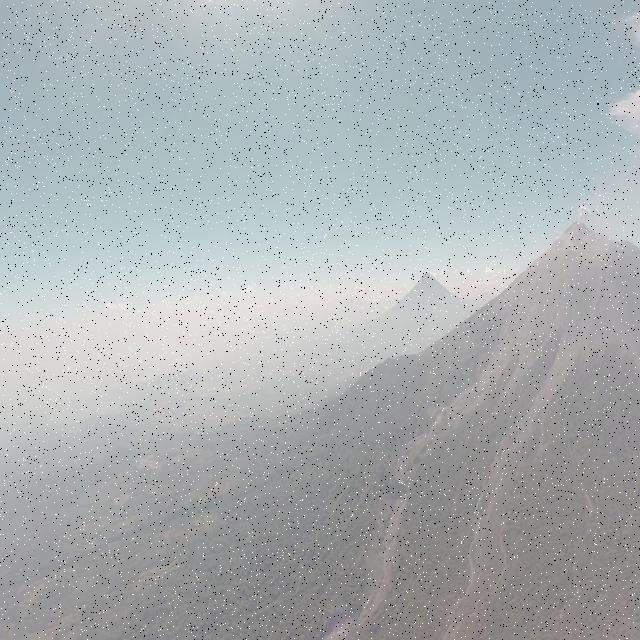Plume: (604, 83, 640, 155), (578, 202, 590, 220)
Summit: (564, 221, 591, 235)
